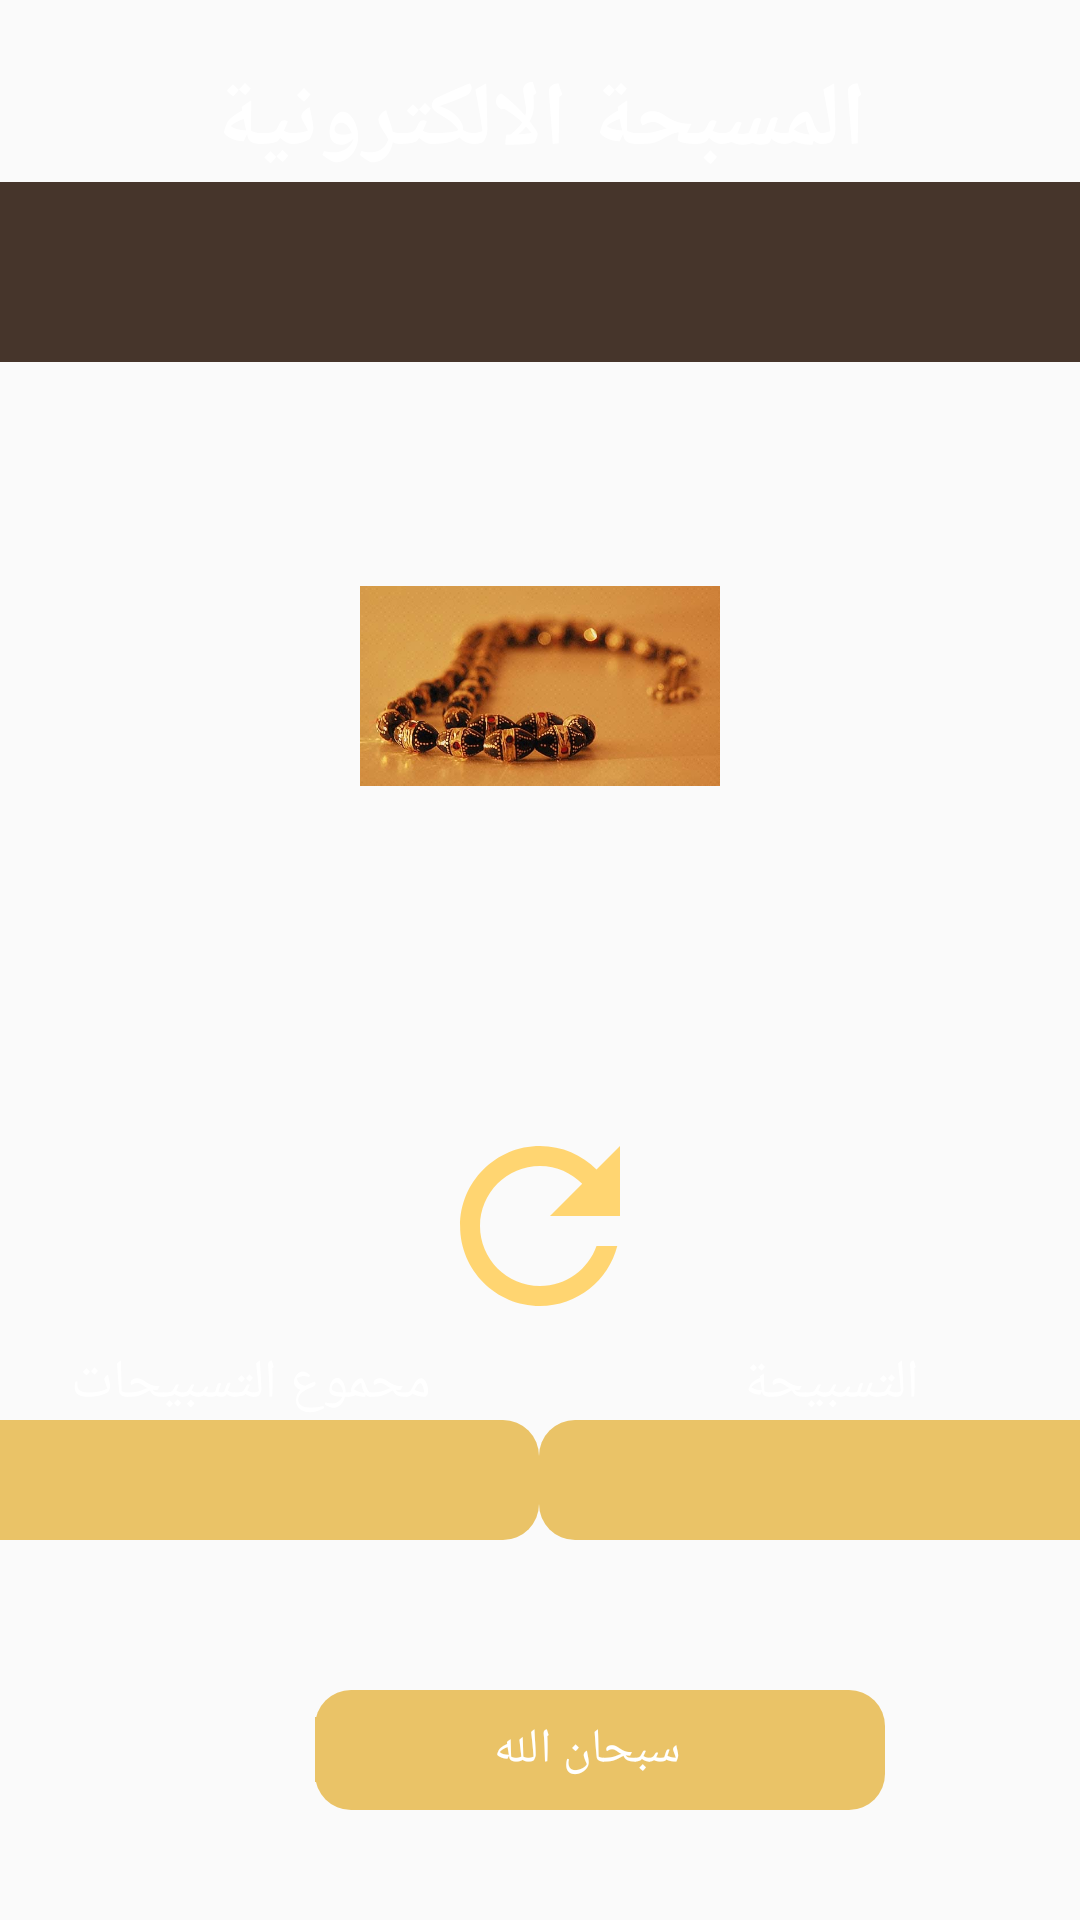

Point at icon controls on the screen. Image size 1080*1920, points as (x,y).
messbaha: (540,686)
refresh: (540,1226)
